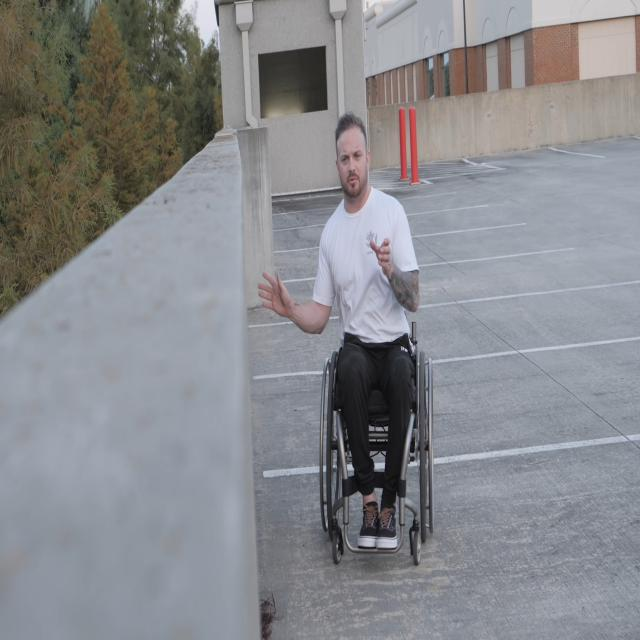wheelchairs: (318, 288, 432, 571)
